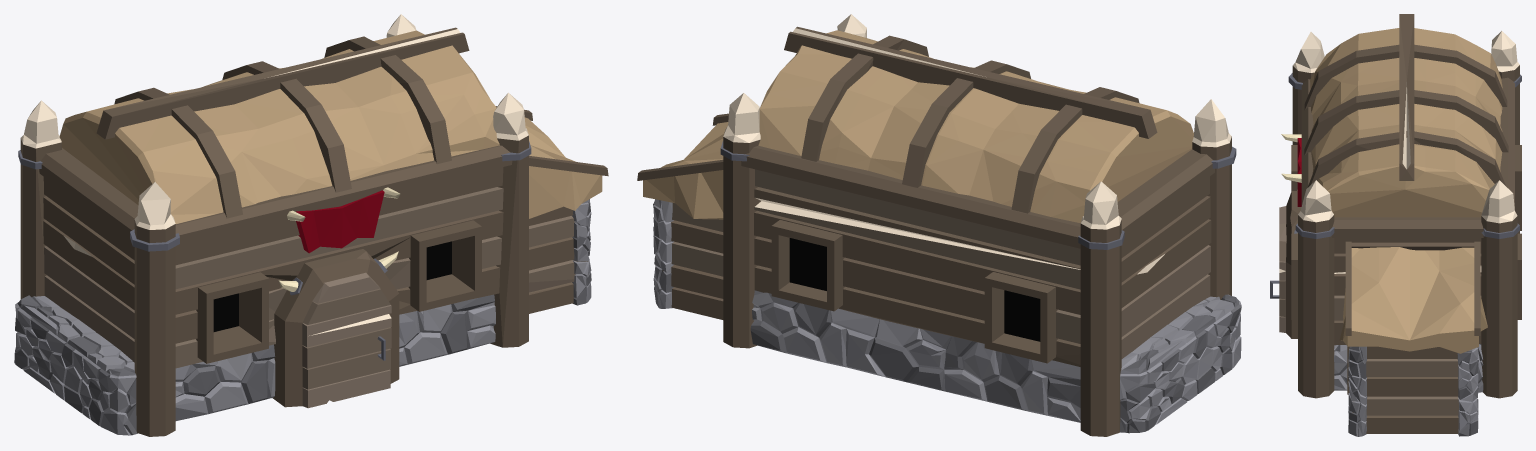
The model's file is _BARRACKS.fbx.
3 renders of one model, left to right at view 1: azimuth 30°, elevation 25°; view 2: azimuth 150°, elevation 25°; view 3: azimuth 270°, elevation 25°, orthographic. The views are drawn at different scales.
Visible parts, largest first — view 1: BARRACKS; view 2: BARRACKS; view 3: BARRACKS.
Part boxes in pixels (bbox=[...]): BARRACKS: bbox=[14, 14, 608, 436]; BARRACKS: bbox=[637, 14, 1241, 436]; BARRACKS: bbox=[1270, 14, 1521, 436].
Size of the model in its own units: 1526 by 778 by 759.
